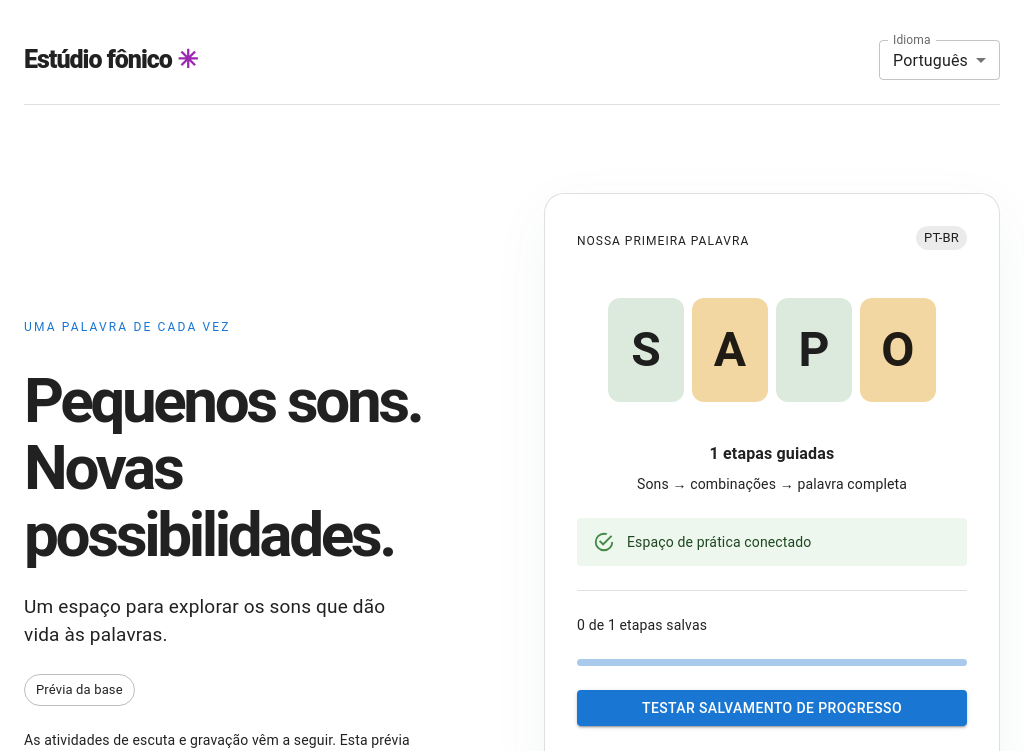
Test: shows save errors and Portuguese resources
The width and height of the screenshot is (1024, 751).
Expected: the text "Espaço de prática conectado" is shown, [627,534,812,550]
Step 1. Click the button "Testar salvamento de progresso" → (772, 708), box [577,690,967,726]
(page scrolled)
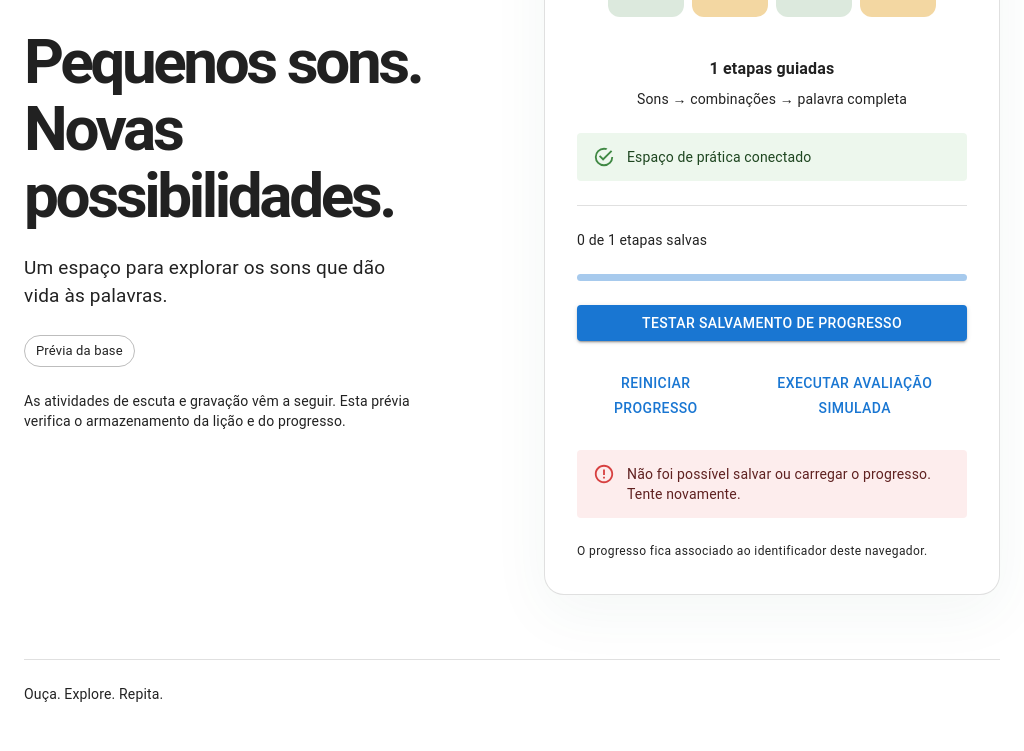
Now the text "Não foi possível salvar" is shown, box [627,466,931,502]
